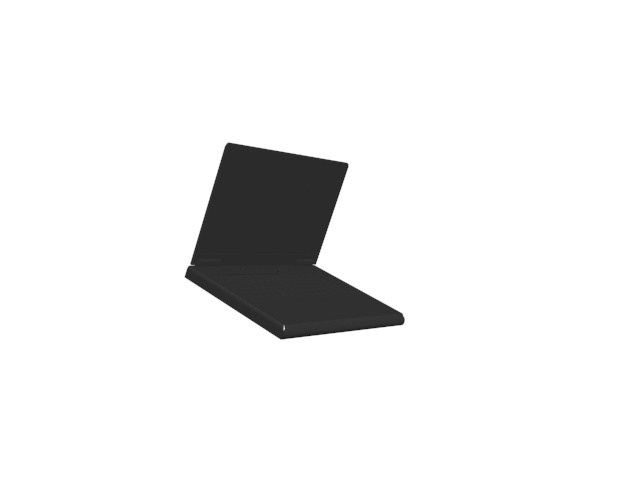laptop_computer: (185, 137, 408, 344)
